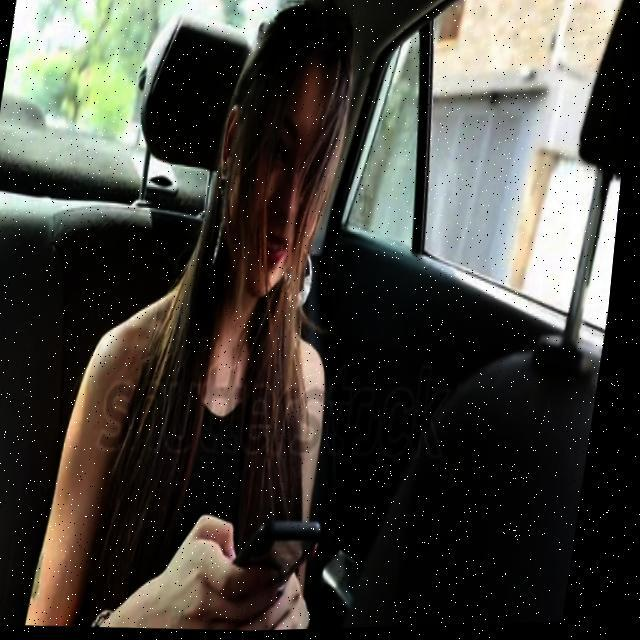PhoneCall: (234, 520, 334, 596)
